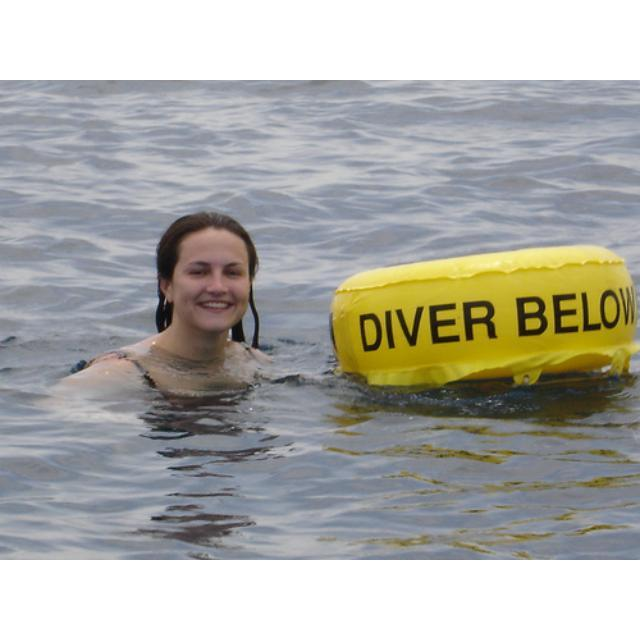human: (52, 209, 281, 412)
